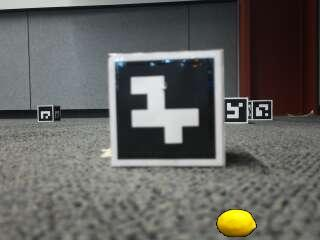lemon: (218, 211, 256, 238)
